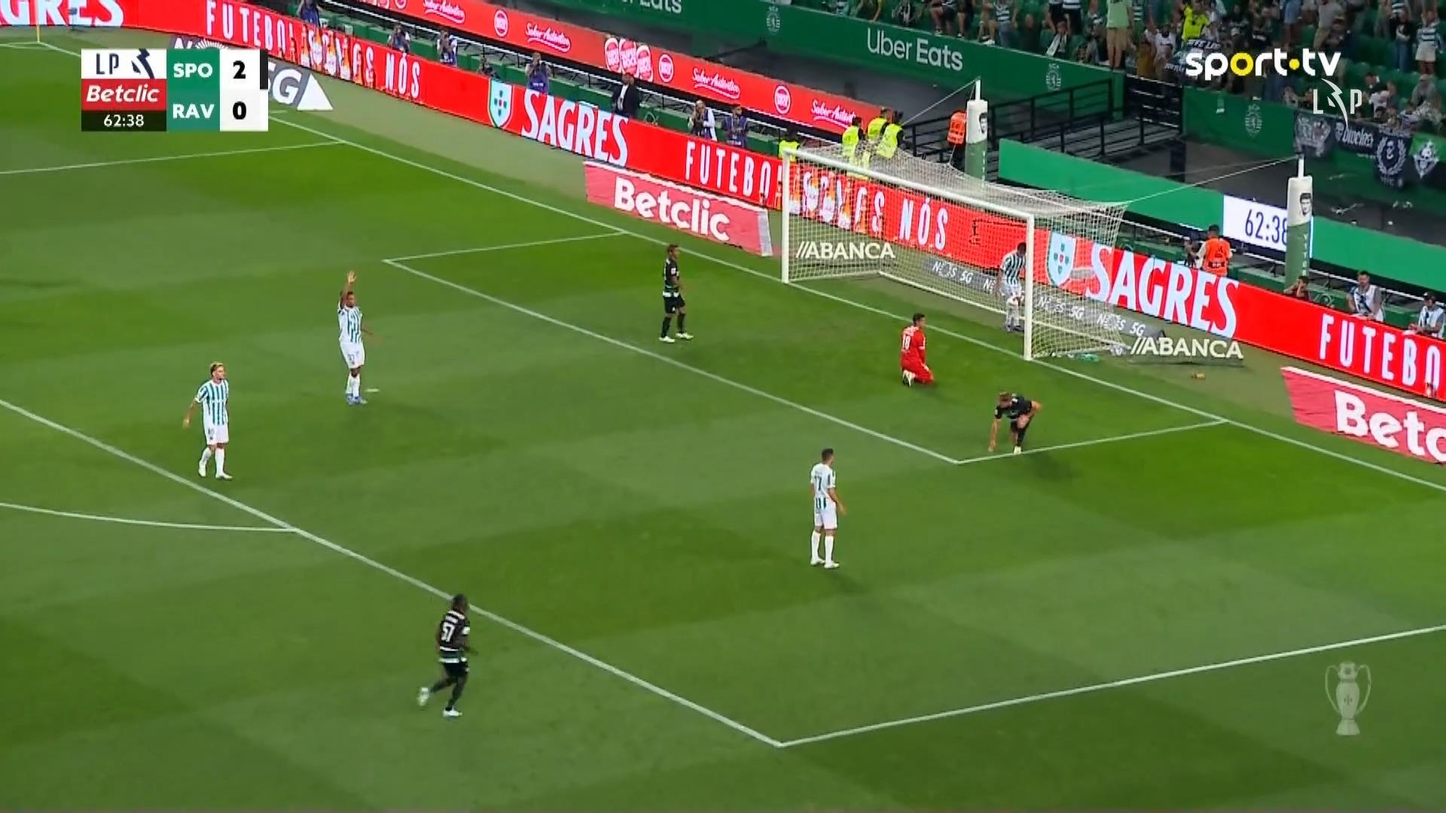goalkeeper: (898, 312, 935, 387)
player: (416, 592, 478, 717), (182, 361, 233, 480), (335, 269, 374, 405), (807, 446, 846, 569), (657, 242, 694, 343), (987, 390, 1041, 455), (997, 240, 1027, 332)
